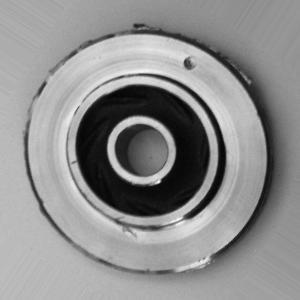casting_with_burr: (19, 22, 277, 277)
crack: (110, 210, 142, 243)
pit: (180, 50, 203, 77)
scratch: (62, 151, 86, 173)
